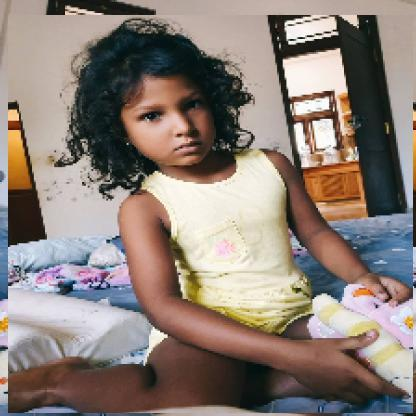child: (9, 16, 415, 415)
